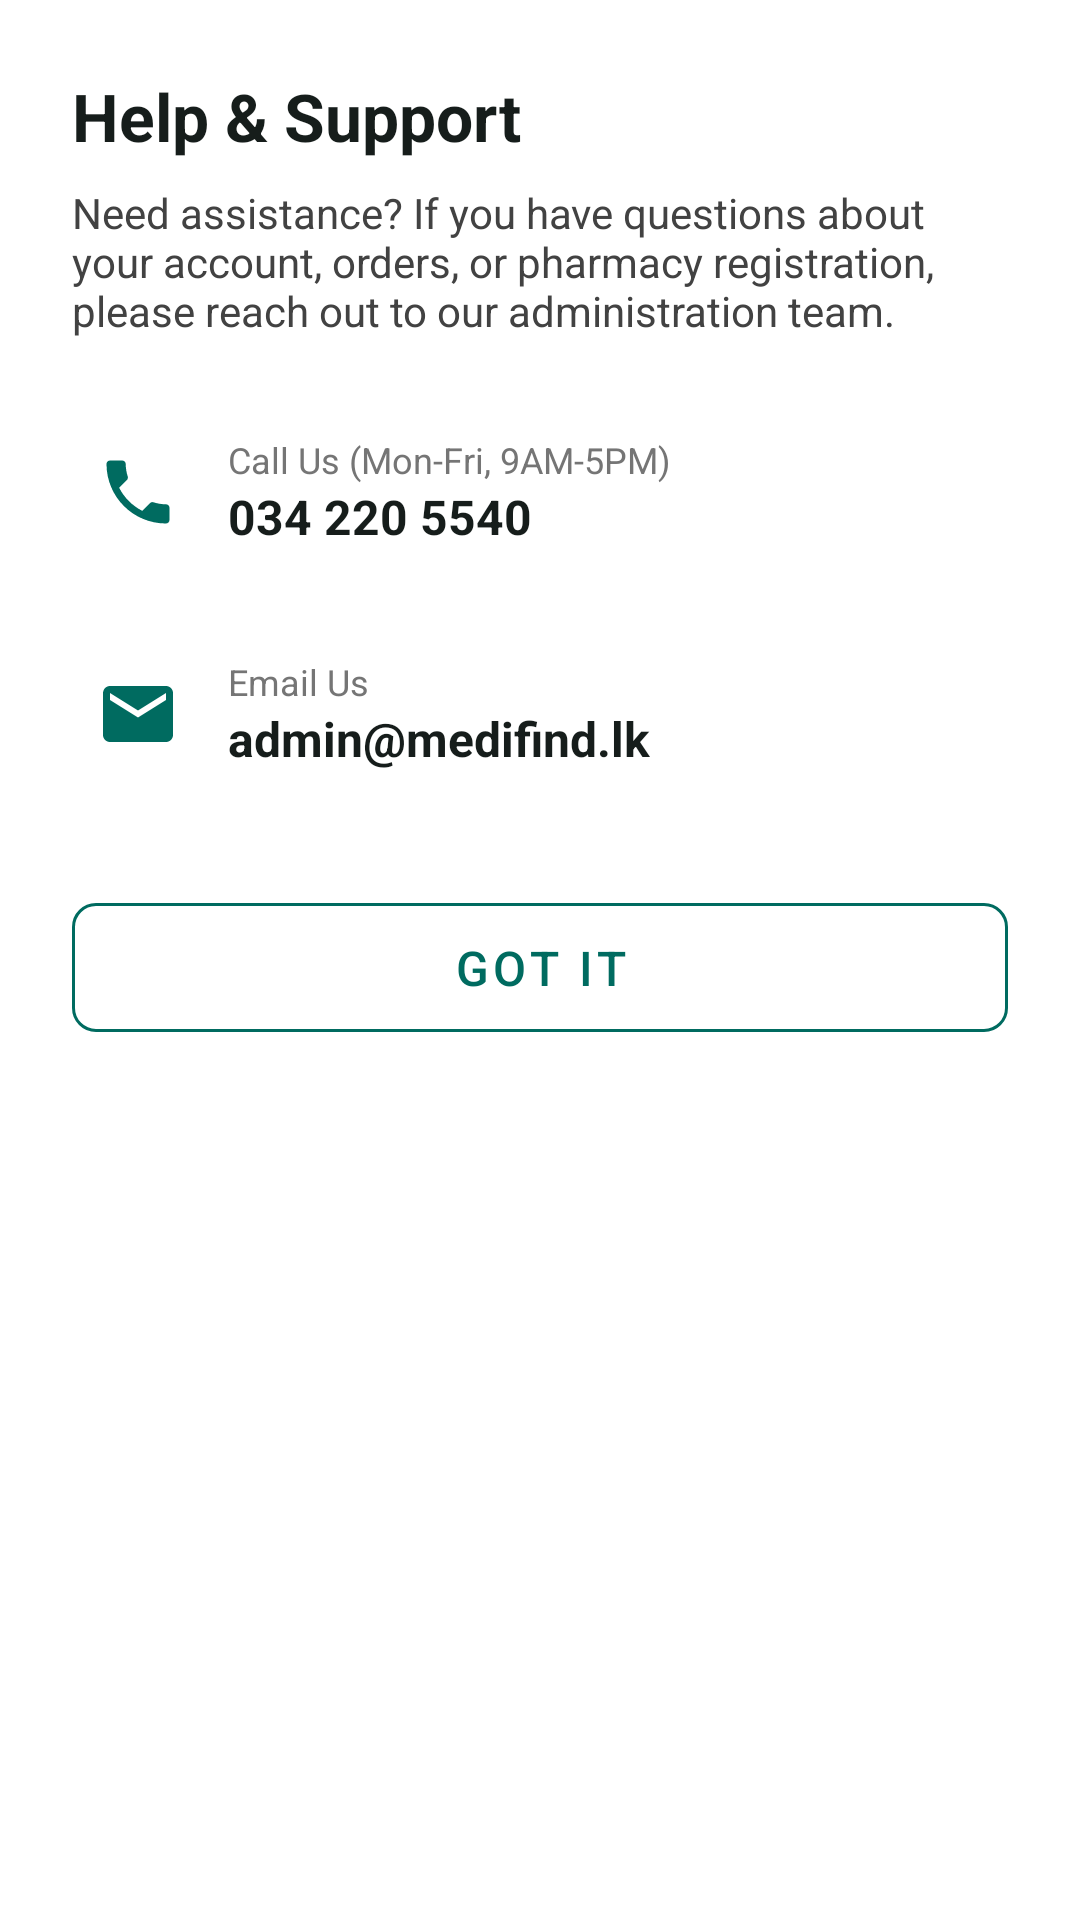

Icon click points for this 1080x1920 phone screenshot, format (x=x, y=y):
local phone: (x=138, y=492)
